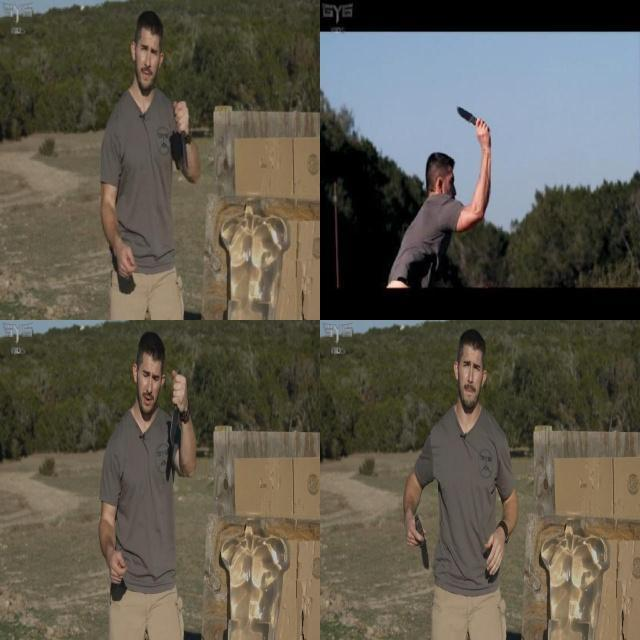-: (404, 510, 430, 573), (166, 370, 186, 450), (170, 99, 191, 175), (454, 100, 490, 136)
